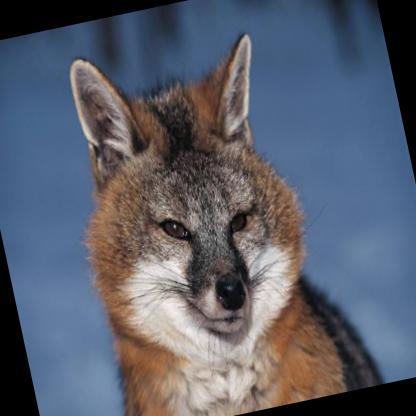dhole: (45, 9, 382, 416)
